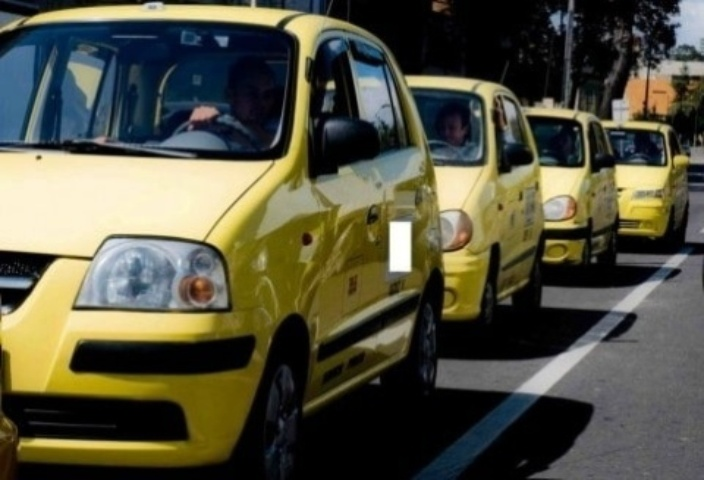taxi: (1, 13, 463, 476), (362, 65, 546, 343), (507, 106, 627, 280), (598, 118, 691, 255)
